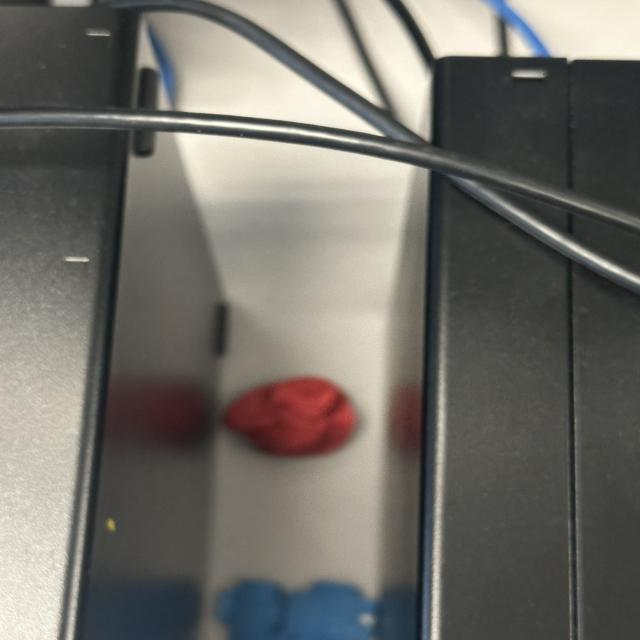fire: (220, 374, 360, 458)
house: (209, 574, 376, 640)
